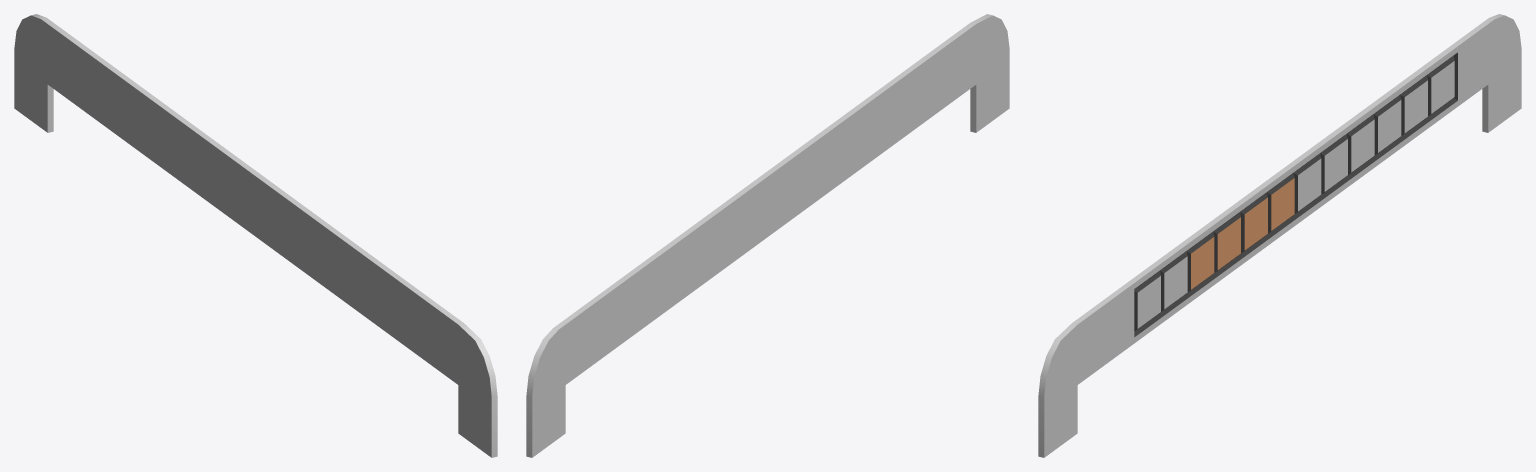
File: inputExponentFrame.glb
3 views of the same model, side by side, from view 1: azimuth 30°, elevation 25°; view 2: azimuth 150°, elevation 25°; view 3: azimuth 330°, elevation 25° (orthographic).
Visible parts, largest first — view 1: InputExponentFrame; view 2: InputExponentFrame; view 3: InputExponentFrame.
Part boxes in pixels (box(x1,y1,x2,y2)): InputExponentFrame: box(14, 14, 497, 457); InputExponentFrame: box(526, 14, 1009, 457); InputExponentFrame: box(1038, 14, 1521, 457).
Bounding box in the file's own units: 0.001 × 0.018 × 0.143.
